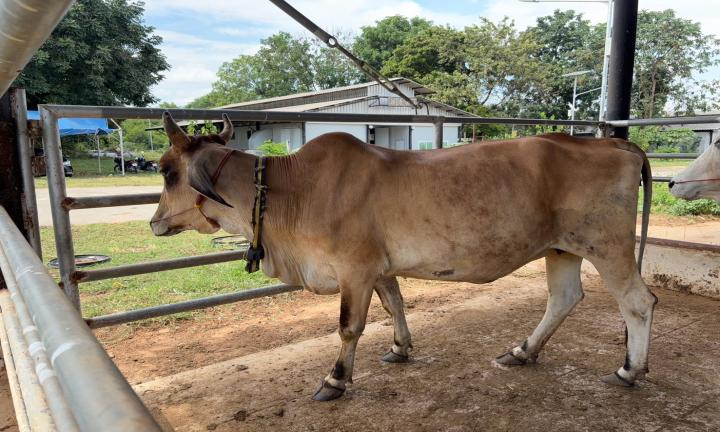Brahman: (151, 112, 656, 400)
